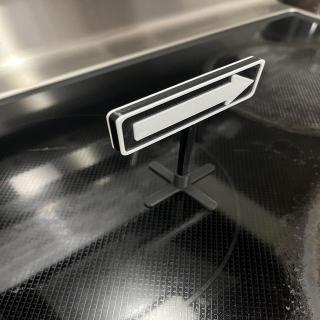sign_oneway_right: (107, 54, 268, 158)
